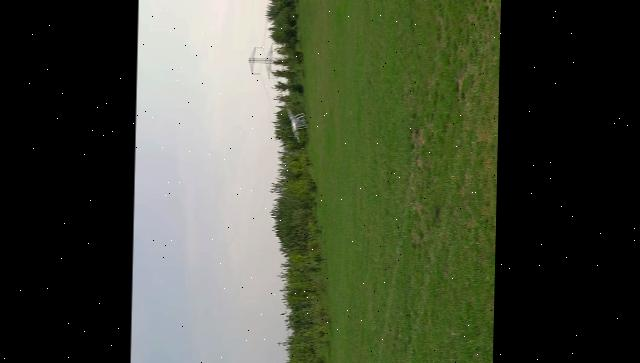drone: (282, 102, 309, 140)
